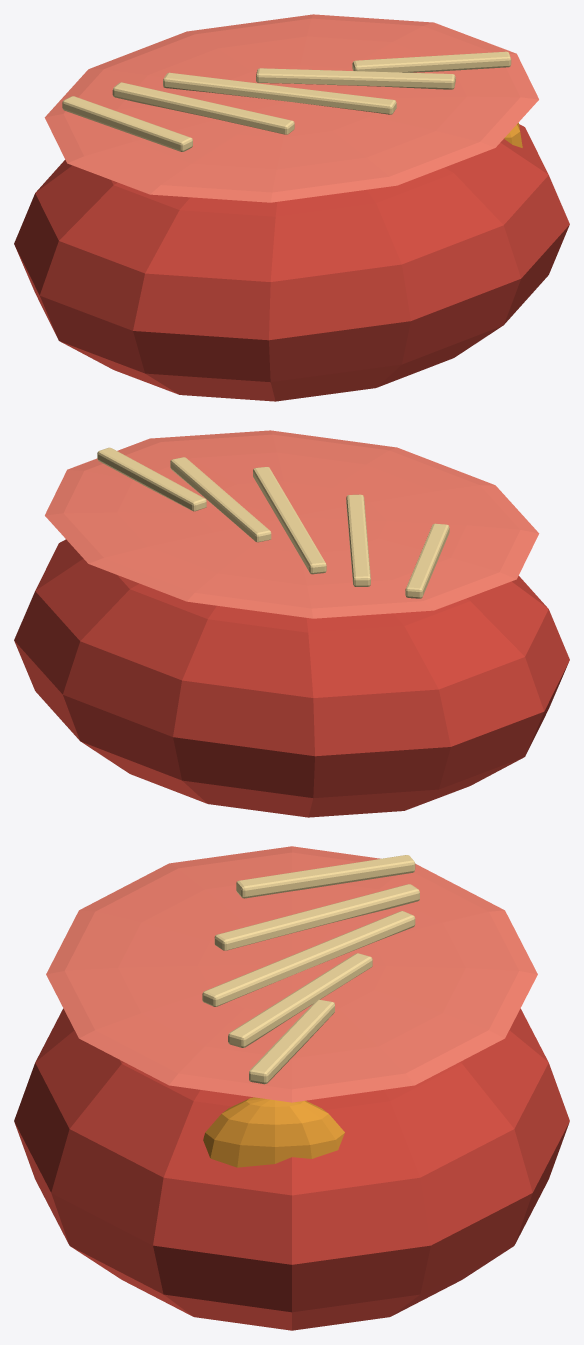
File: ING_MarbledLoin_V1.glb
3 renders of one model, top to bottom at view 1: azimuth 30°, elevation 25°; view 2: azimuth 150°, elevation 25°; view 3: azimuth 270°, elevation 25°, orthographic. The views are drawn at different scales.
Visible parts, largest first — view 1: Loin, CleanFace, Marbling_2, Marbling_3, Marbling_1, Marbling_4, Marbling_0; view 2: Loin, CleanFace, Marbling_2, Marbling_3, Marbling_4, Marbling_1, Marbling_0; view 3: Loin, CleanFace, RareMedallion, Marbling_2, Marbling_1, Marbling_0, Marbling_3, Marbling_4.
Part boxes in pixels (box(x1,y1,x2,y2)): Loin: box(14, 124, 569, 401); CleanFace: box(44, 14, 538, 202); Marbling_2: box(163, 72, 396, 114); Marbling_3: box(256, 68, 455, 89); Marbling_1: box(112, 82, 294, 134); Marbling_4: box(352, 51, 511, 72); Marbling_0: box(62, 96, 192, 151); Loin: box(14, 539, 569, 817); CleanFace: box(45, 430, 539, 618); Marbling_2: box(253, 467, 326, 574); Marbling_3: box(170, 457, 271, 542); Marbling_4: box(97, 447, 206, 511); Marbling_1: box(346, 494, 370, 586); Marbling_0: box(405, 523, 449, 598); Loin: box(14, 1008, 569, 1330); CleanFace: box(46, 846, 537, 1102); RareMedallion: box(203, 1097, 344, 1167); Marbling_2: box(202, 911, 415, 1006); Marbling_1: box(214, 884, 419, 950); Marbling_0: box(236, 855, 415, 898); Marbling_3: box(228, 953, 372, 1047); Marbling_4: box(249, 999, 334, 1084).
Size of the model in its own units: 2.02 by 1.04 by 1.65.
